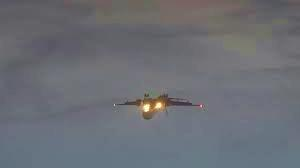Plane: (101, 78, 218, 129)
